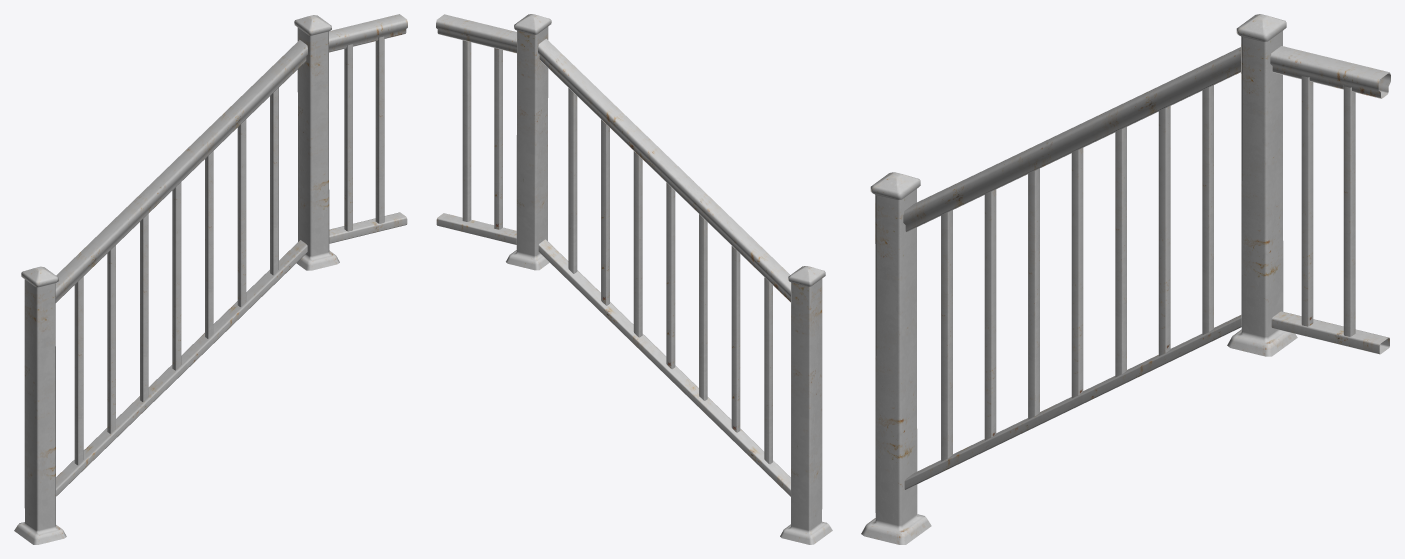
File: SM_Stairs_Railing_A2.fbx
The picture shows the model from 3 angles, left to right: view 1: azimuth 30°, elevation 25°; view 2: azimuth 150°, elevation 25°; view 3: azimuth 330°, elevation 25°; orthographic projection. The views are drawn at different scales.
Visible parts, largest first — view 1: SM_Stairs_Railing_A2; view 2: SM_Stairs_Railing_A2; view 3: SM_Stairs_Railing_A2.
Part boxes in pixels (<box>): SM_Stairs_Railing_A2: <box>14,14,407,544</box>; SM_Stairs_Railing_A2: <box>436,14,832,544</box>; SM_Stairs_Railing_A2: <box>861,14,1390,544</box>.
Bounding box in the file's own units: 131 × 13.14 × 148.
1 material, 1 textured.
